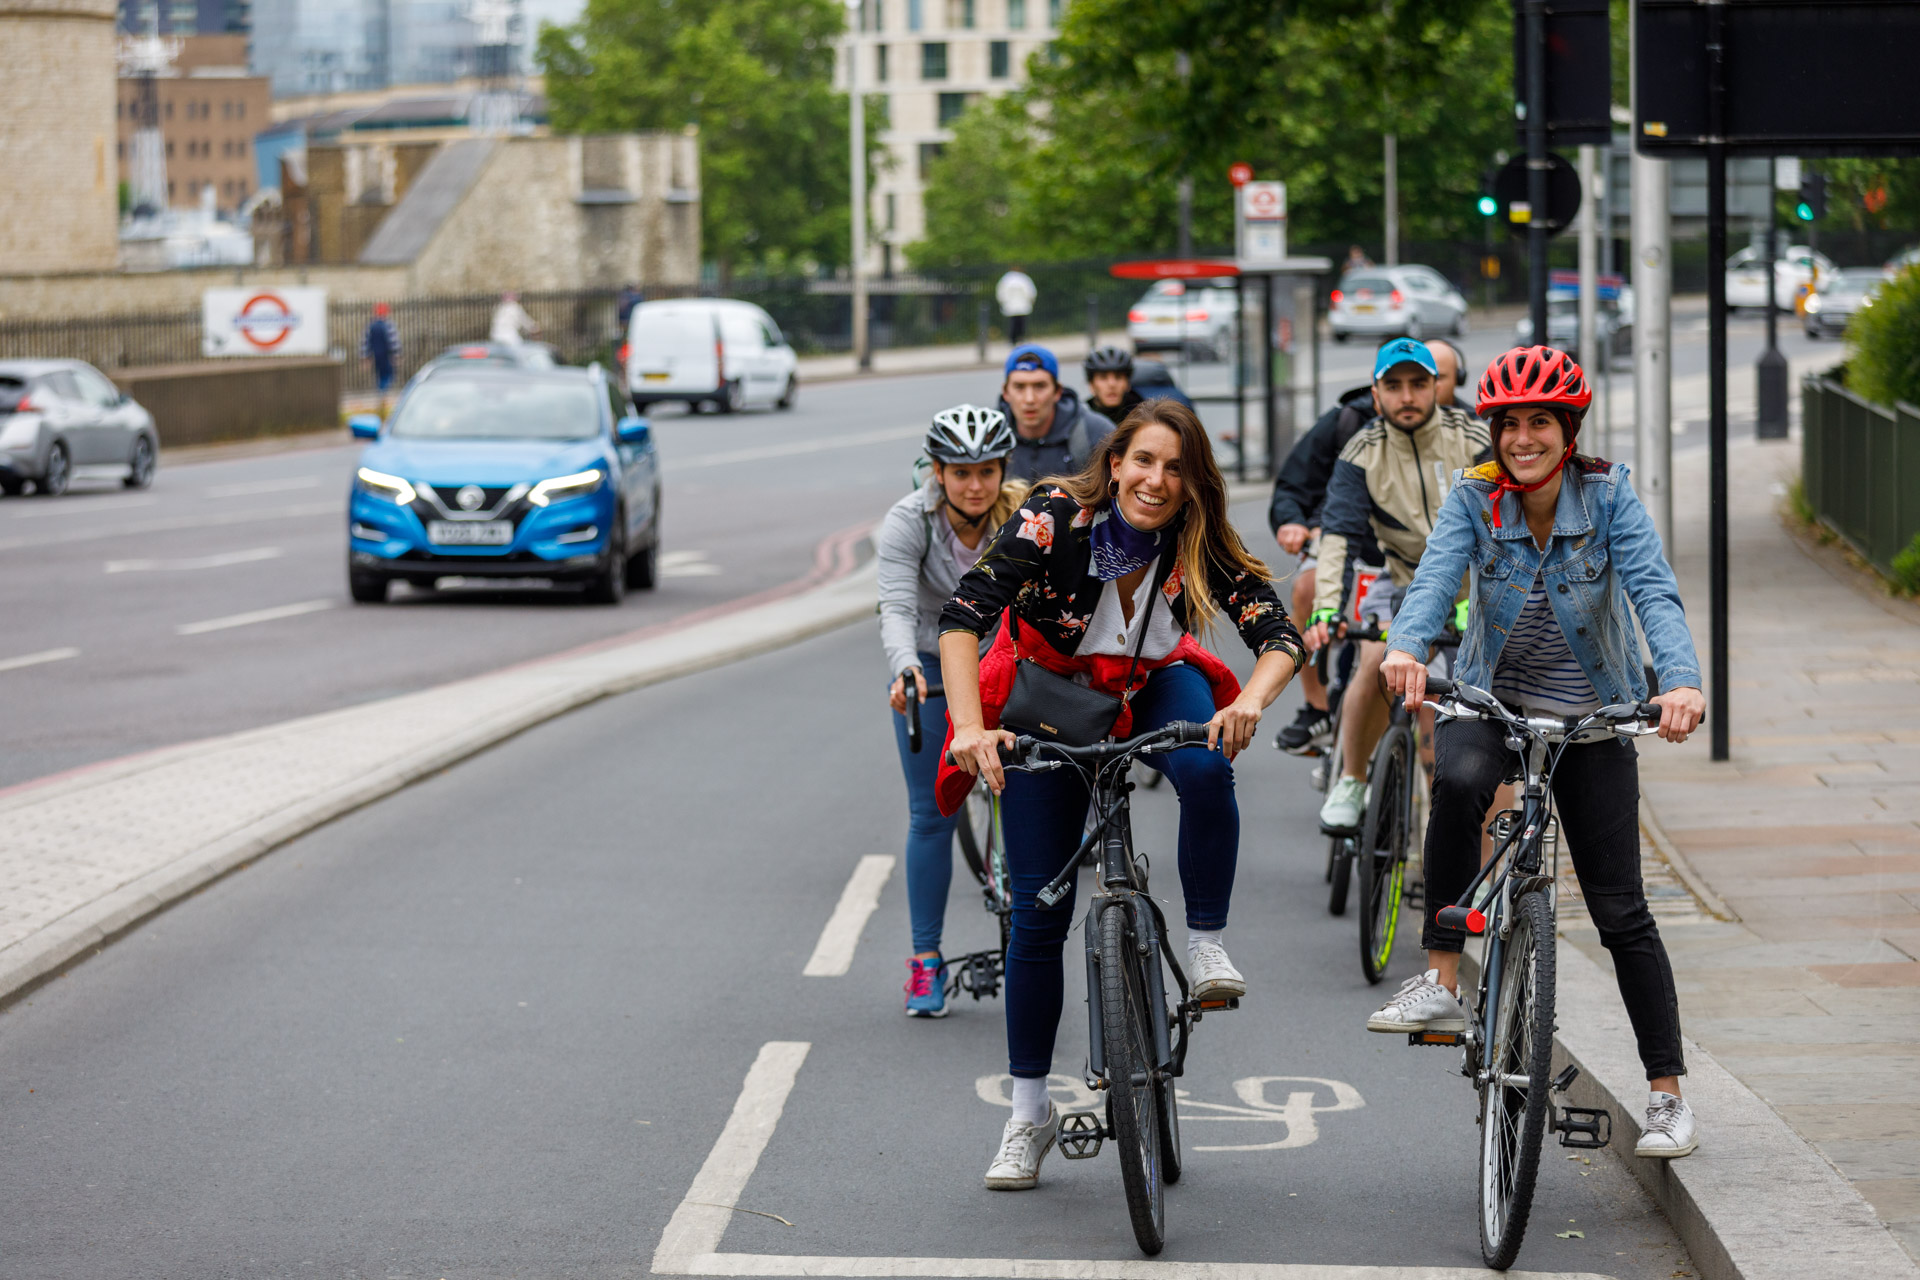commuter: (933, 393, 1306, 1270), (1376, 344, 1714, 1279), (876, 401, 1051, 1021)
